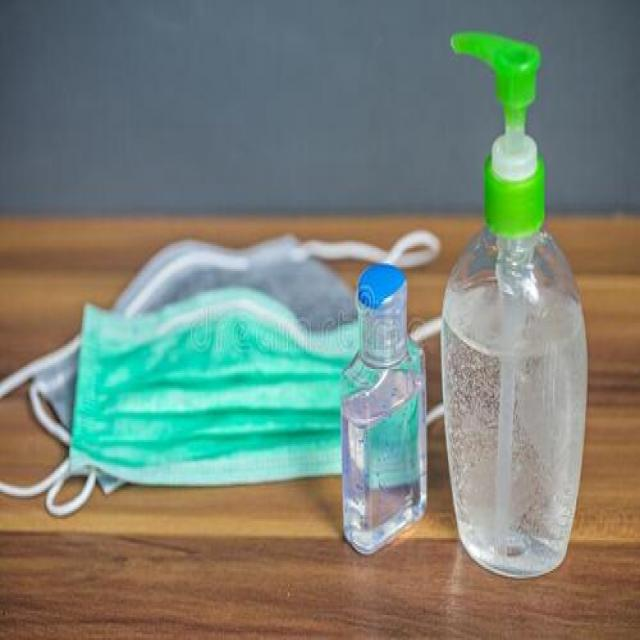sanitizer: (444, 27, 585, 575), (342, 260, 424, 554)
